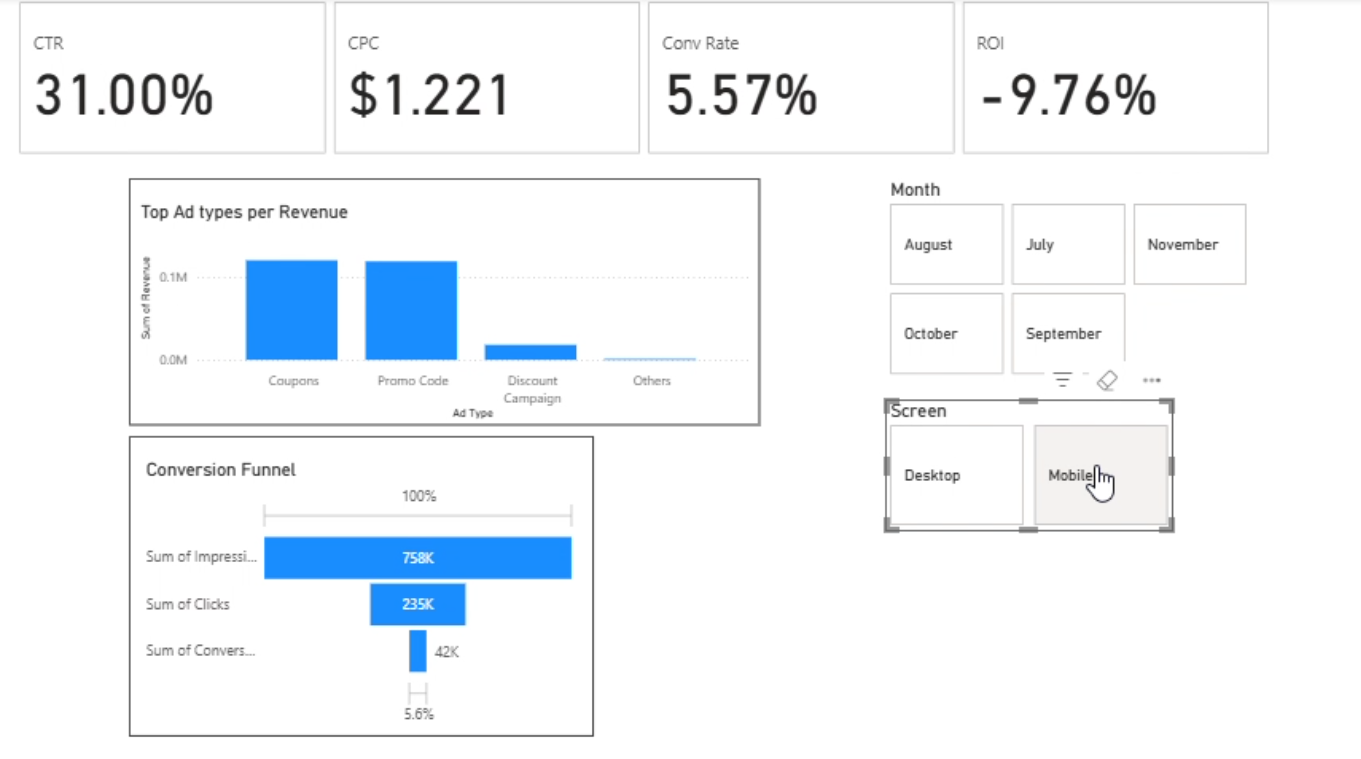

What the dashboard file says about the page in this screenshot:
{"tool":"powerbi","page":{"name":"Report","canvas":[1280,720],"ordinal":1},"visuals":[{"type":"cardVisual","fields":{"Data":["Ads.CTR","Ads.CPC","Ads.Conv Rate","Ads.ROI"]},"box":[13.4,0,1183.1,152.4],"z":0},{"type":"columnChart","title":"Top Ad types per Revenue","fields":{"Category":["Ads.Ad Type"],"Y":["Sum(Ads.Revenue)"]},"box":[121,170.3,591.5,231.5],"z":2},{"type":"advancedSlicerVisual","fields":{"Values":["Ads.Screen"]},"box":[830.5,377.9,270.4,124],"z":3},{"type":"advancedSlicerVisual","fields":{"Values":["Ads.Month"]},"box":[830.5,170.3,346.6,189.7],"z":4},{"type":"funnel","title":"Conversion Funnel","fields":{"Y":["Sum(Ads.Impressions)","Sum(Ads.Clicks)","Sum(Ads.Conversions)"]},"box":[121,412.3,436.2,282.3],"z":5}]}

Visuals, with their boxes in screenshot pixels (x1, y1, x2, y2), scaled from the page's 1280x720 canvas onto the 1361x759 screenshot:
cardVisual - Ads.CTR x Ads.CPC: pyautogui.locateOnScreen(14, 0, 1272, 161)
"Top Ad types per Revenue" columnChart: pyautogui.locateOnScreen(129, 180, 758, 424)
advancedSlicerVisual - Ads.Screen: pyautogui.locateOnScreen(883, 398, 1171, 529)
advancedSlicerVisual - Ads.Month: pyautogui.locateOnScreen(883, 180, 1252, 380)
"Conversion Funnel" funnel: pyautogui.locateOnScreen(129, 435, 592, 732)
